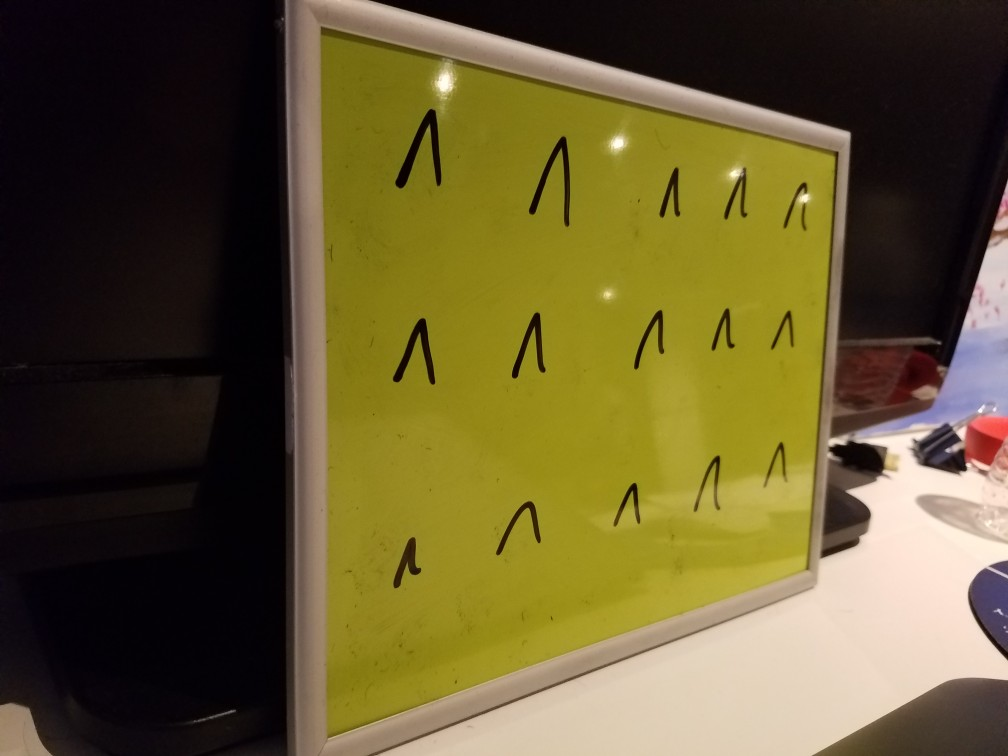^: (379, 92, 465, 203), (510, 112, 587, 233), (497, 300, 559, 393), (492, 488, 550, 574), (386, 311, 442, 398), (624, 295, 671, 392), (597, 469, 652, 542), (688, 446, 736, 526), (697, 299, 748, 369), (385, 512, 423, 597), (651, 156, 693, 229), (716, 152, 756, 227), (765, 298, 809, 364), (753, 433, 795, 495), (775, 173, 813, 235)
